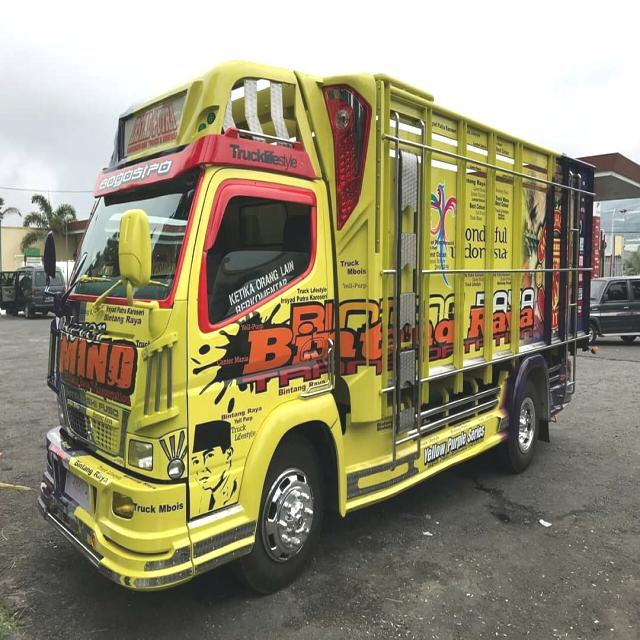truck: (39, 58, 596, 594)
